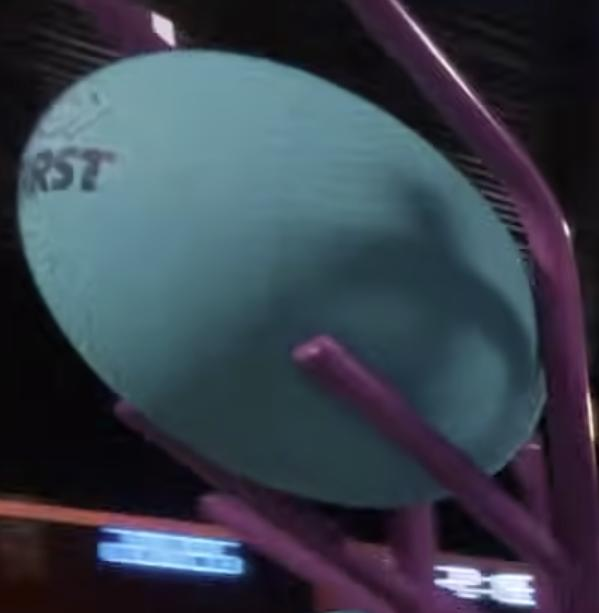algae: (17, 53, 547, 507)
